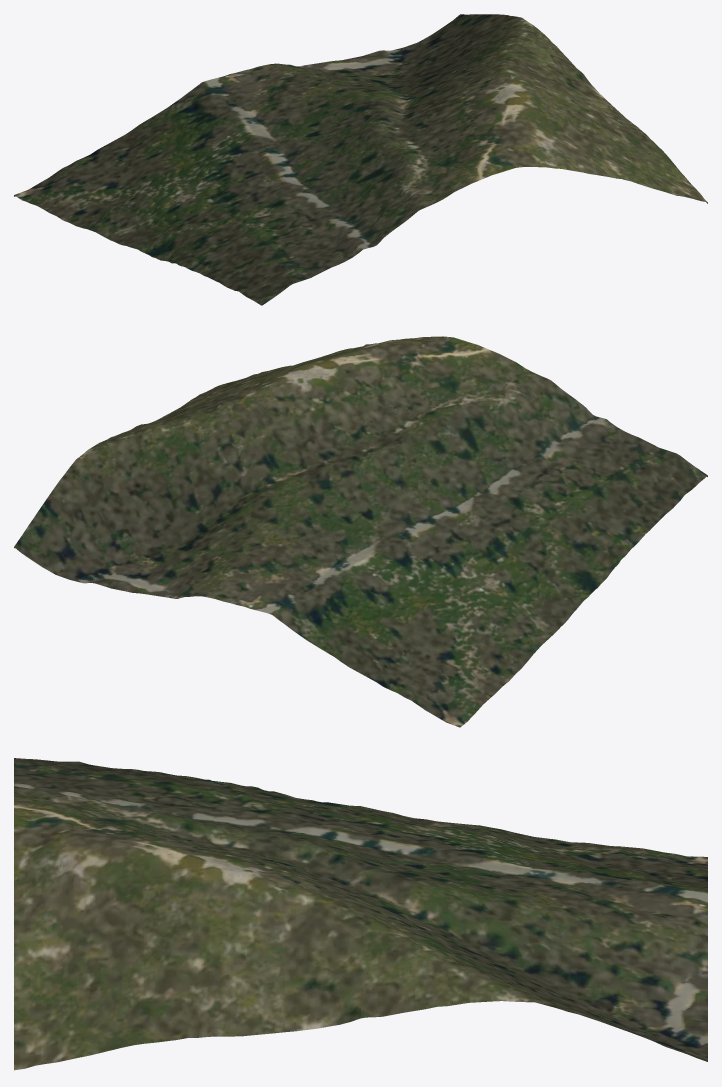
3 renders of one model, top to bottom at view 1: azimuth 30°, elevation 25°; view 2: azimuth 150°, elevation 25°; view 3: azimuth 270°, elevation 25°, orthographic. The views are drawn at different scales.
Bounding box in the file's own units: 250 × 82.6 × 241.
Materials: 1 (1 with a texture image).
